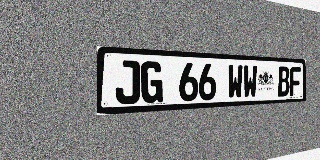6: (179, 62, 198, 101), (199, 63, 216, 101)
B: (278, 66, 290, 97)
F: (290, 67, 301, 96)
G: (141, 61, 163, 103)
J: (115, 60, 140, 105)
W: (228, 64, 243, 99), (243, 65, 257, 98)
